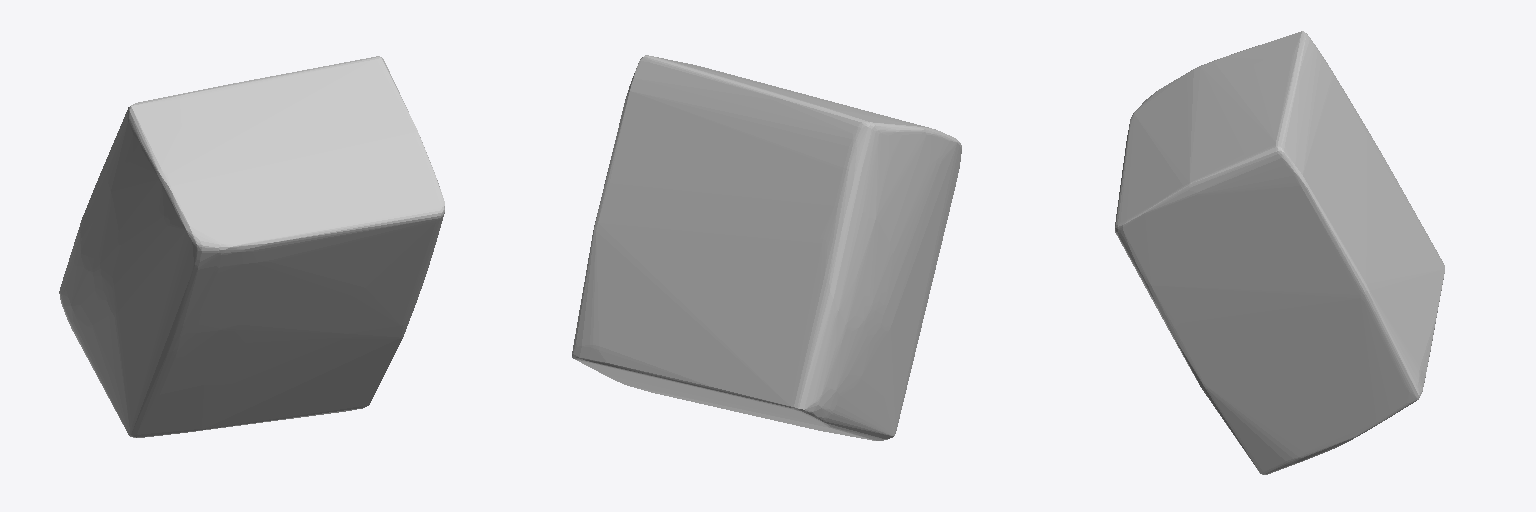
The model's file is 0_decomposed.obj.
3 renders of one model, left to right at view 1: azimuth 30°, elevation 25°; view 2: azimuth 150°, elevation 25°; view 3: azimuth 270°, elevation 25°, orthographic.
Visible parts, largest first — view 1: geometry_0; view 2: geometry_0; view 3: geometry_0.
Boxes of the visible parts, x1,y1,x2,y2 form: geometry_0: [59, 56, 444, 437]; geometry_0: [572, 55, 961, 440]; geometry_0: [1115, 31, 1444, 474].
Size of the model in its own units: 0.087 by 0.1077 by 0.0947.